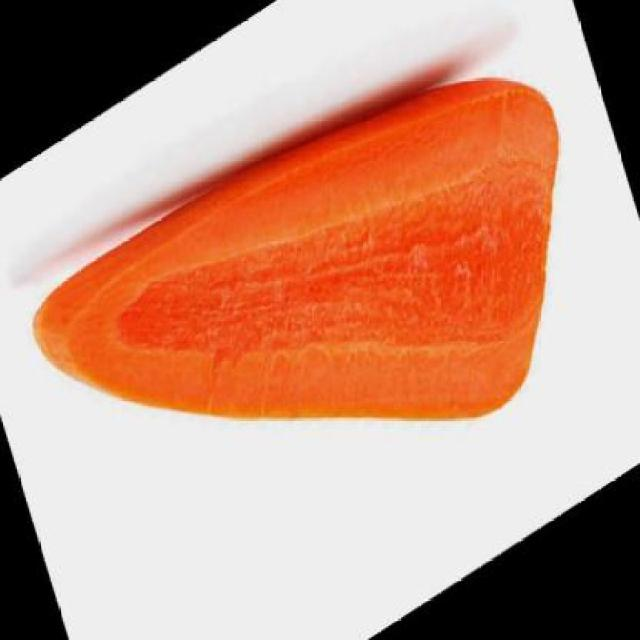carrot: (21, 0, 618, 638)
